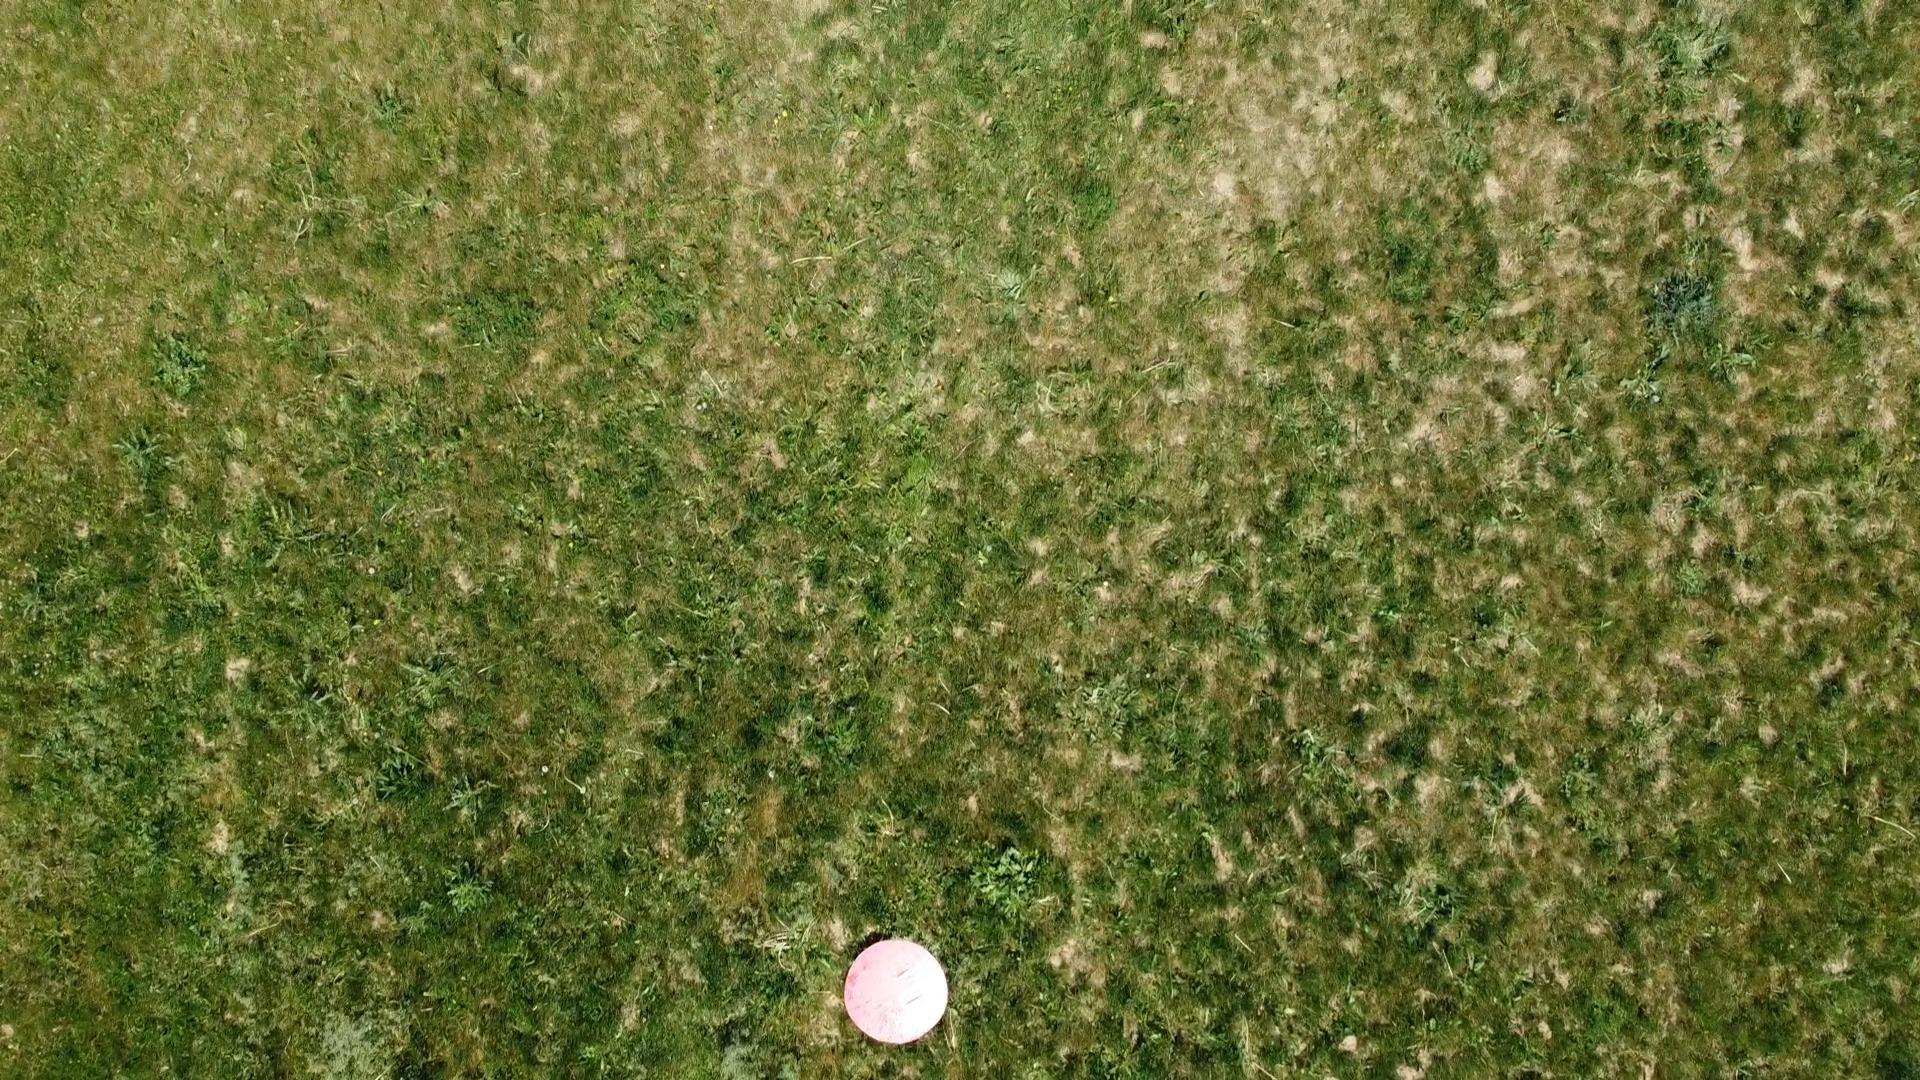Red: (839, 935, 953, 1050)
